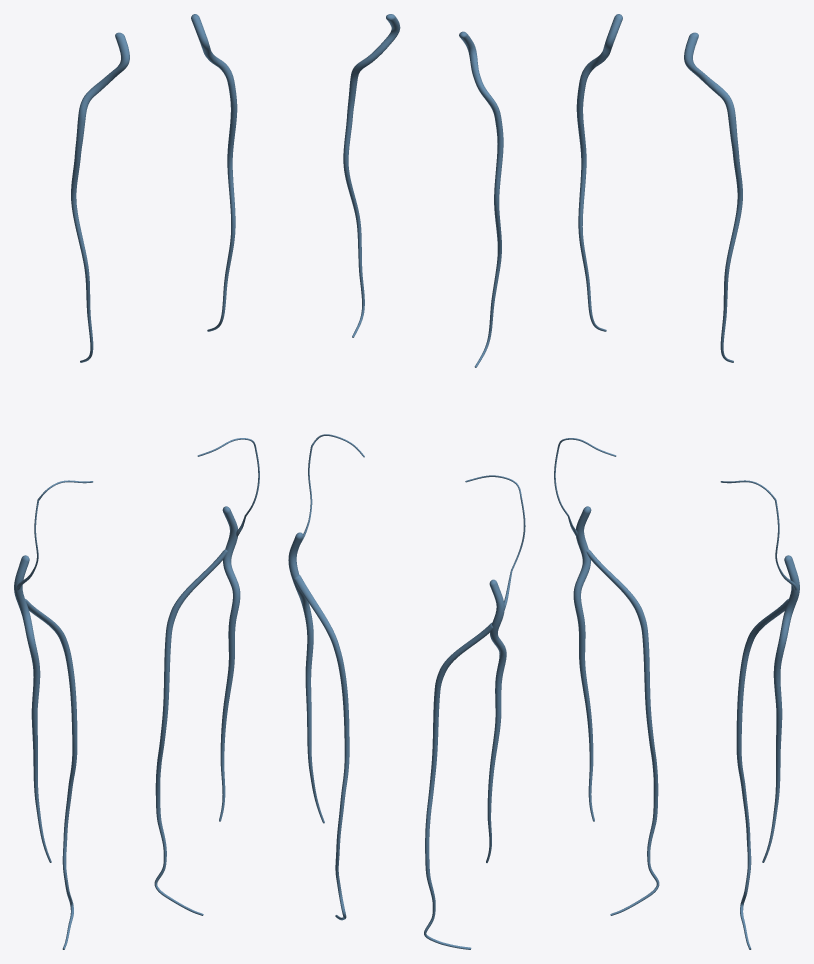
The model's file is deep-leg-veins.glb.
3 renders of one model, left to right at view 1: azimuth 30°, elevation 25°; view 2: azimuth 150°, elevation 25°; view 3: azimuth 330°, elevation 25°, orthographic. The views are drawn at different scales.
Visible parts, largest first — view 1: FMA44337, FMA44336, FMA51042, FMA44339, FMA51043, FMA44338; view 2: FMA44336, FMA44337, FMA44339, FMA51042, FMA51043, FMA44338; view 3: FMA44336, FMA44337, FMA51043, FMA44338, FMA51042, FMA44339.
Part boxes in pixels (x1,y1,x2,y2): FMA44337: (197,438,259,821); FMA44336: (14,480,93,862); FMA51042: (71,32,129,362); FMA44339: (154,549,227,915); FMA51043: (191,14,237,331); FMA44338: (25,599,77,949); FMA44336: (465,475,525,862); FMA44337: (288,434,364,823); FMA44339: (294,575,349,920); FMA51042: (459,31,503,367); FMA51043: (343,14,400,337); FMA44338: (424,623,493,949); FMA44336: (554,438,616,821); FMA44337: (720,480,799,862); FMA51043: (684,32,742,362); FMA44338: (586,549,659,915); FMA51042: (576,14,622,331); FMA44339: (736,599,788,949).
Bounding box in the file's own units: 2.2 × 8.64 × 0.9426.
